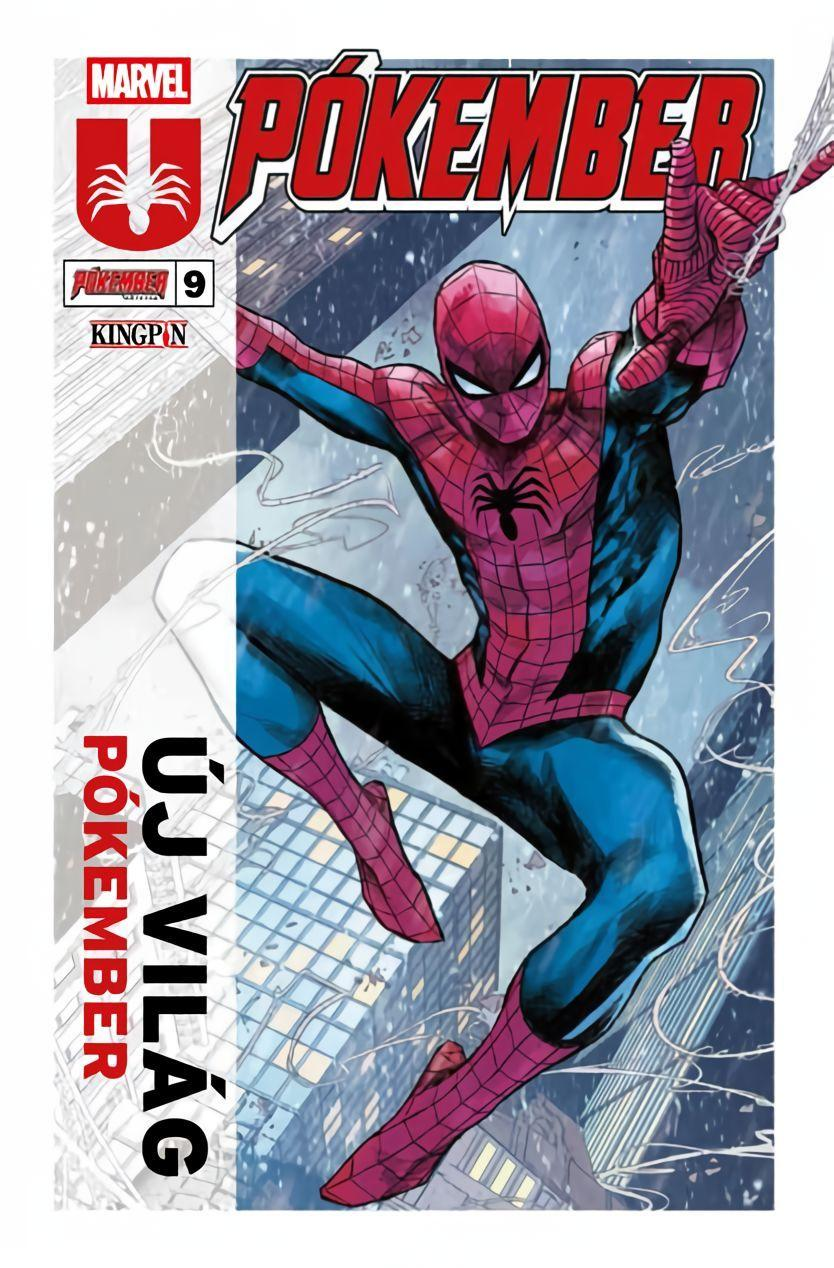comic: (49, 13, 834, 1215)
